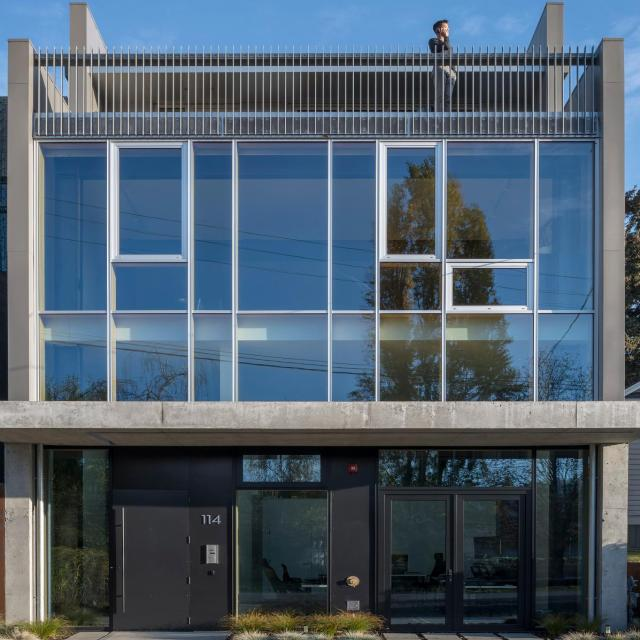door: (377, 485, 588, 629), (113, 489, 191, 631)
railing: (32, 47, 597, 135)
window: (35, 141, 601, 401), (237, 491, 331, 619), (49, 451, 110, 629), (373, 451, 583, 486), (242, 454, 323, 482)
